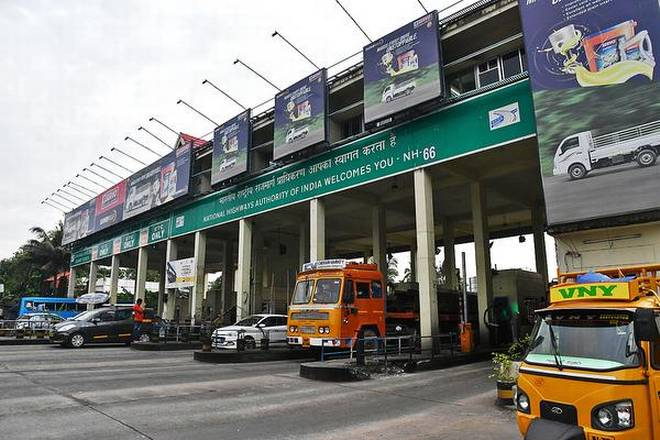toll plaza: (161, 75, 525, 356)
